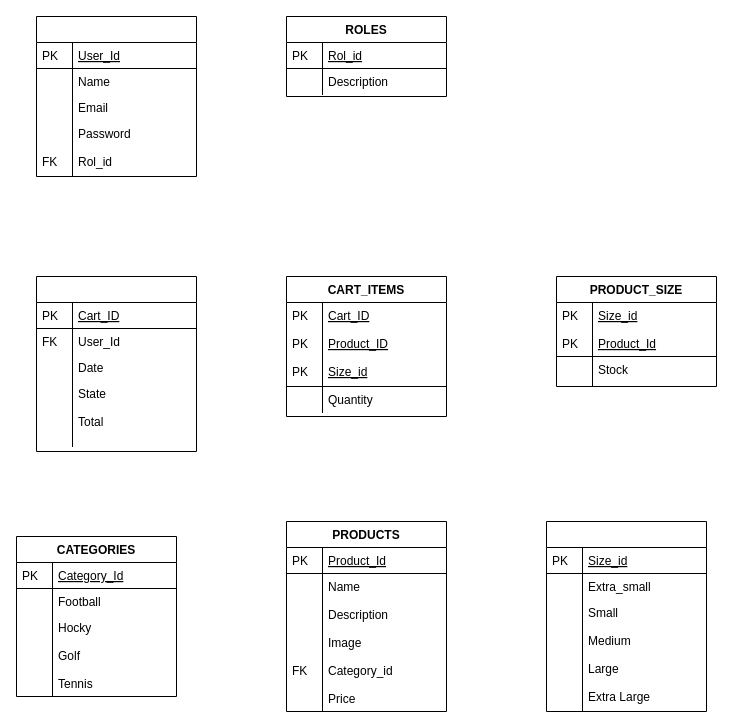
The diagram is 733 pixels wide and 728 high, and some of its shapes have lost their labels. Each missing label, with the box of its shape:
SHOPPING_CART: (36, 276, 196, 452)
SIZES: (546, 520, 706, 712)
USERS: (36, 16, 196, 176)
